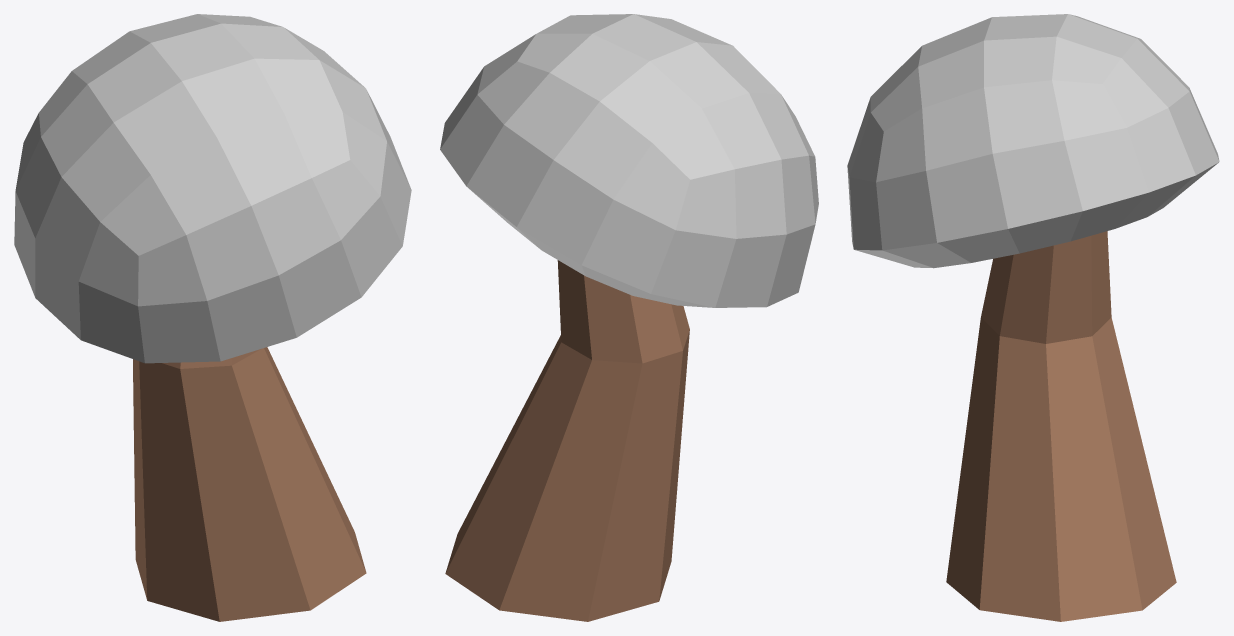
File: mesh_mushroom_01_white.fbx
3 views of the same model, side by side, from view 1: azimuth 30°, elevation 25°; view 2: azimuth 150°, elevation 25°; view 3: azimuth 270°, elevation 25° (orthographic). The views are drawn at different scales.
Parts seen in each view (by area): view 1: mesh_mushroom_01_white_LOD0; view 2: mesh_mushroom_01_white_LOD0; view 3: mesh_mushroom_01_white_LOD0.
Boxes of the visible parts, box(x1,y1,x2,y2) form: mesh_mushroom_01_white_LOD0: box(14, 14, 411, 621); mesh_mushroom_01_white_LOD0: box(440, 14, 818, 621); mesh_mushroom_01_white_LOD0: box(847, 14, 1219, 621).
Size of what is drawn, in the model's own units: 0.2017 by 0.322 by 0.2013.
